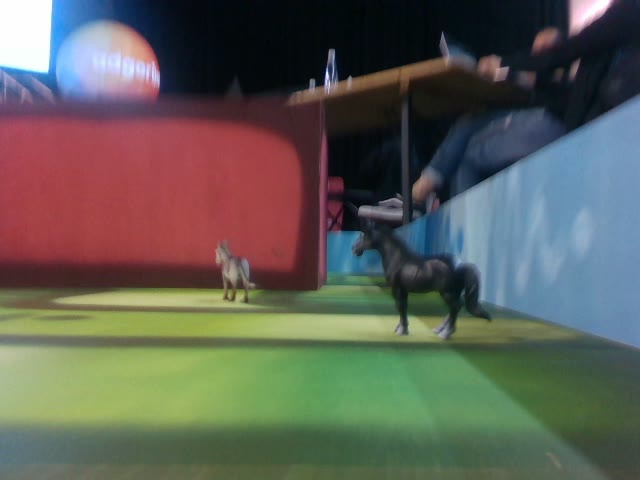toy: (352, 220, 492, 338), (215, 239, 257, 303)
